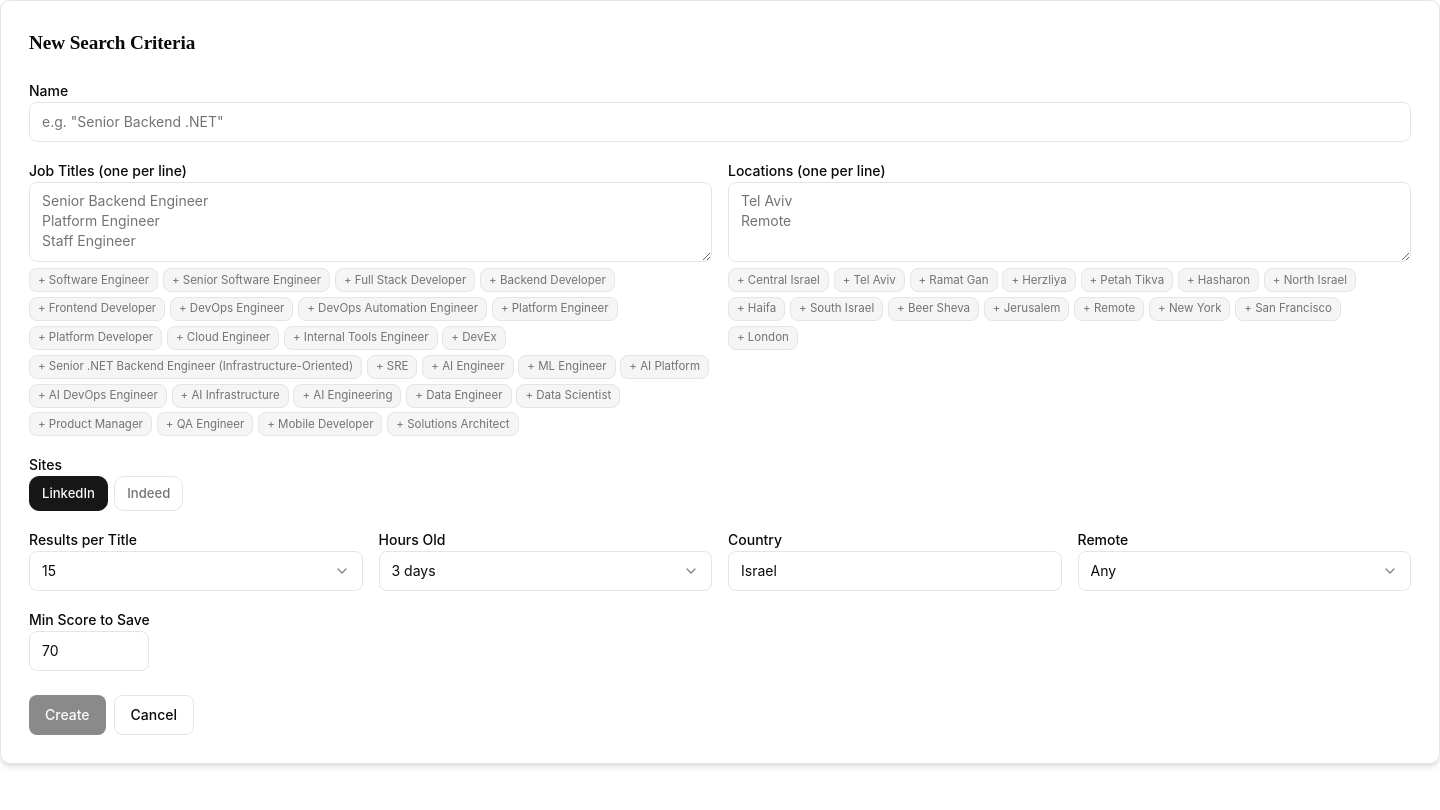
Scenario: CriteriaForm - Validation › create button is disabled when no sites are selected
This screenshot has width=1440, height=810.
Type "Test" into the field with placeholder "e.g. \"Senior Backend .NET\"" at coordinates (720, 122), box [29, 102, 1411, 142]
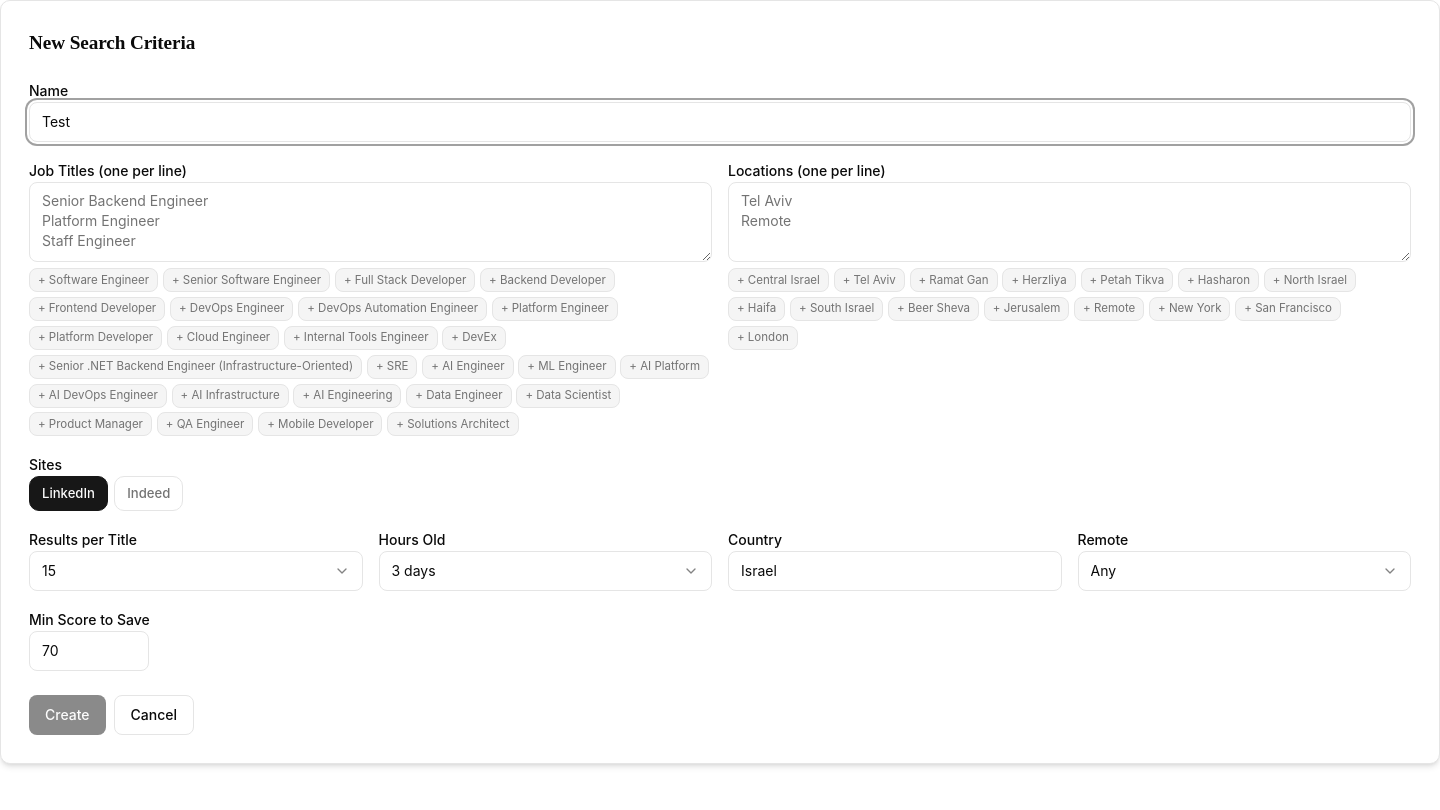
Type "Engineer" into the text box with placeholder "Senior Backend Engineer Platform Engineer Staff Engineer" at coordinates (370, 222), box [29, 182, 712, 262]
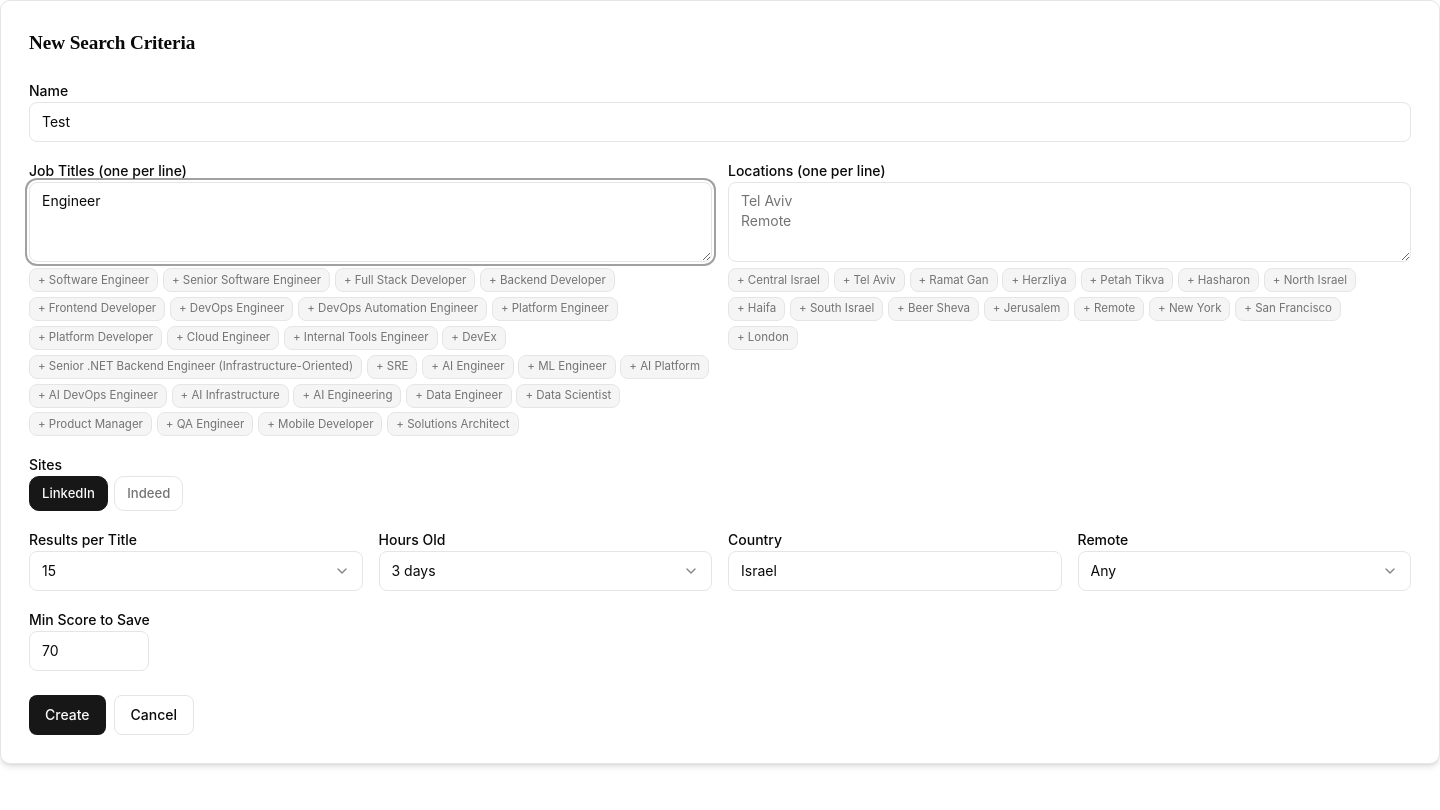
Deselect the default linkedin
Click the button "LinkedIn" at coordinates (68, 494), box [29, 476, 108, 511]
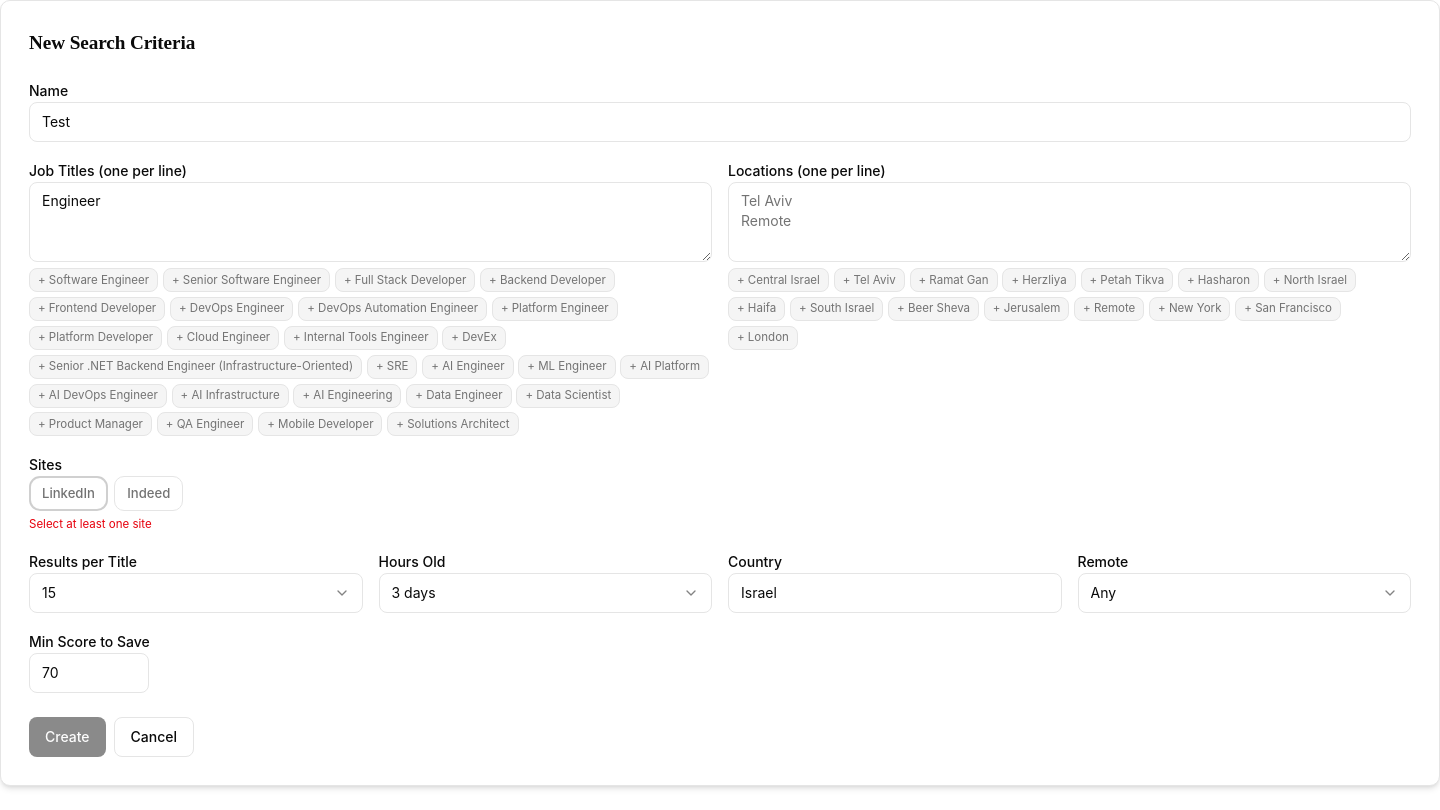
Expected: the text "Select at least one site" is shown, [29, 517, 152, 531]
Expected: the button "Create" is disabled, [29, 717, 106, 757]
